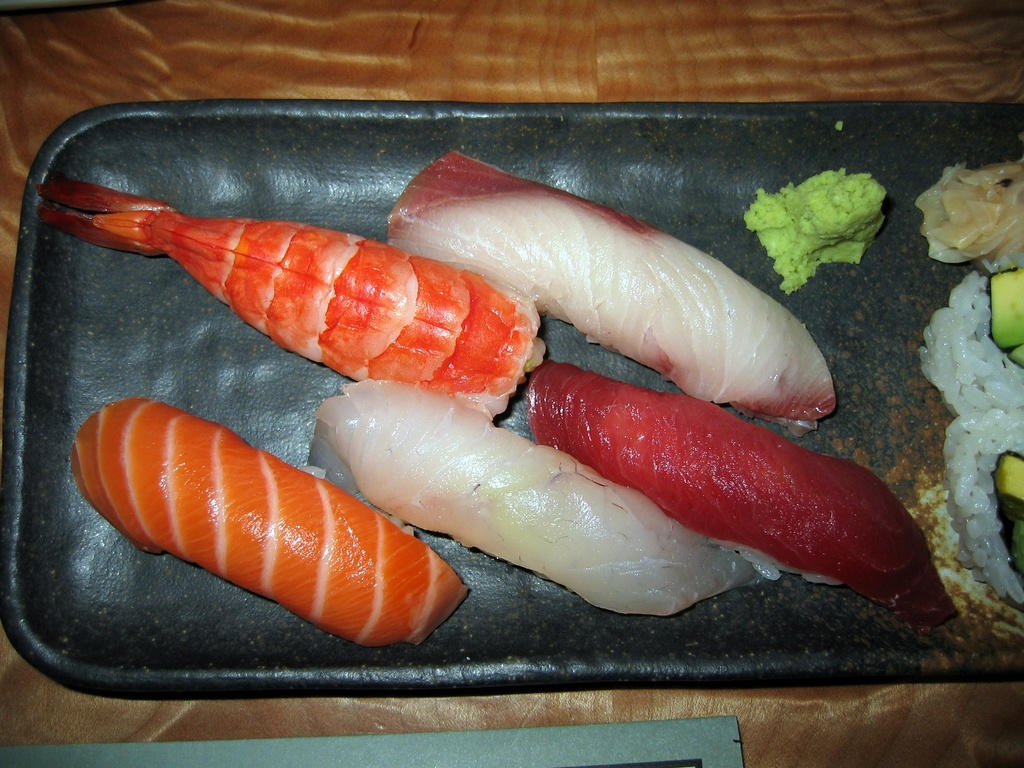sushi: (35, 150, 958, 650), (58, 406, 473, 654), (948, 409, 1023, 616), (917, 262, 1021, 409)
